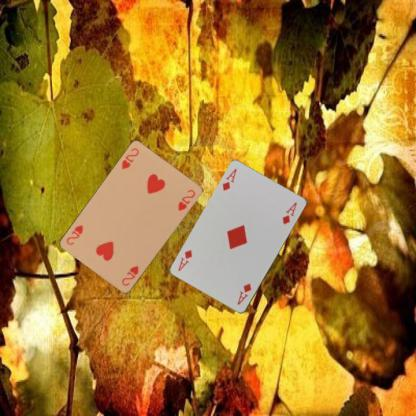2h: (119, 146, 140, 172), (119, 264, 140, 287)
Ad: (234, 281, 252, 307), (220, 166, 238, 192)
